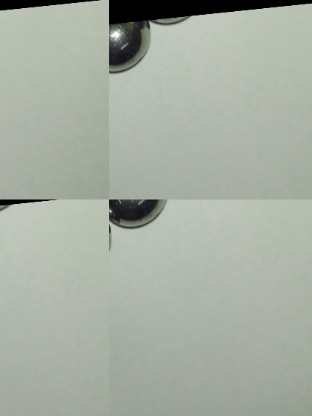ironball: (106, 18, 150, 73), (107, 198, 170, 229)
